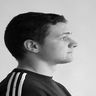ear: (20, 34, 45, 57)
